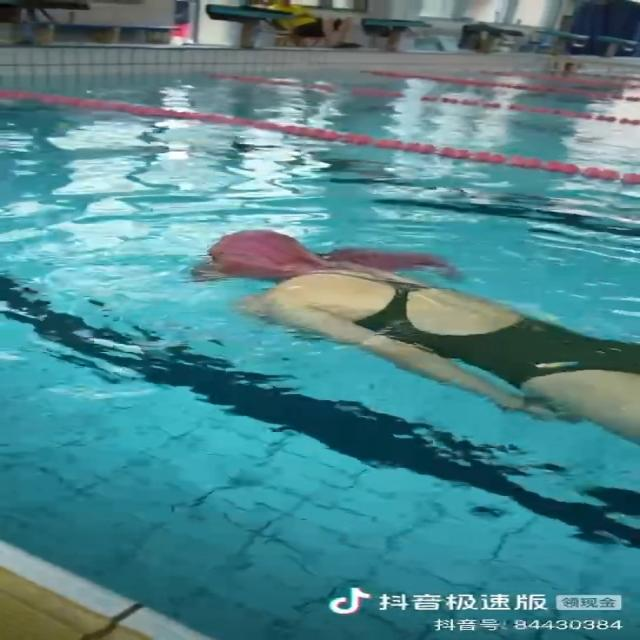Drowning: (193, 227, 640, 441)
